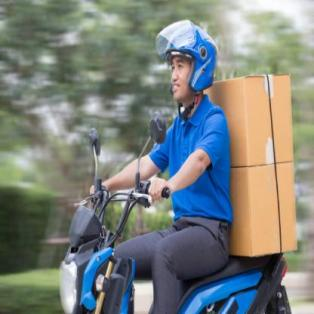Motocicleta: (50, 175, 294, 313)
